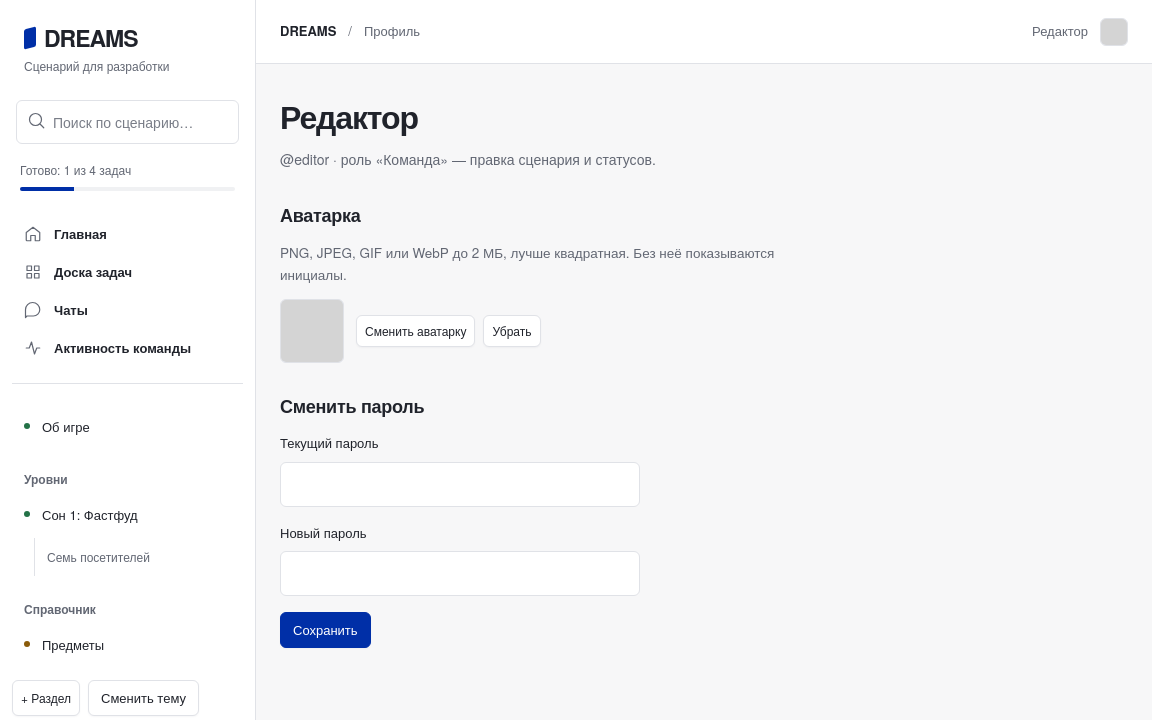
Test: avatars › removes the picture
Click the button "Убрать" at (512, 331), box [483,315,540,347]
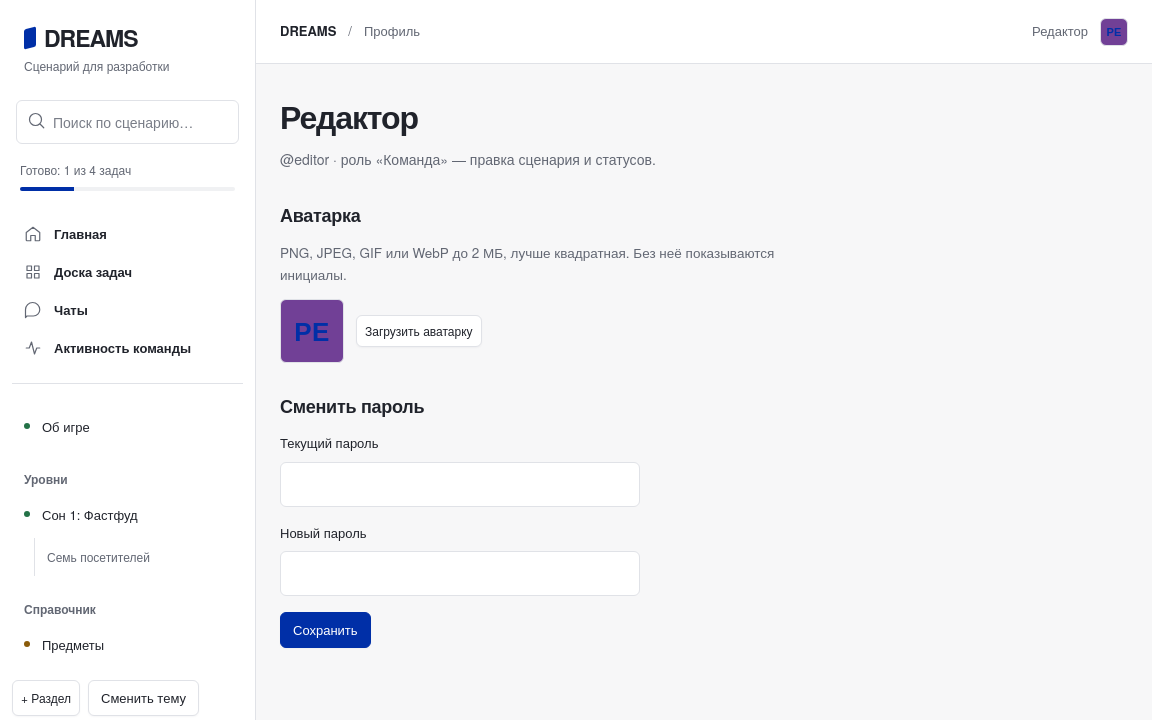
Check: the button "Загрузить аватарку" is shown, box [356,315,482,347]
